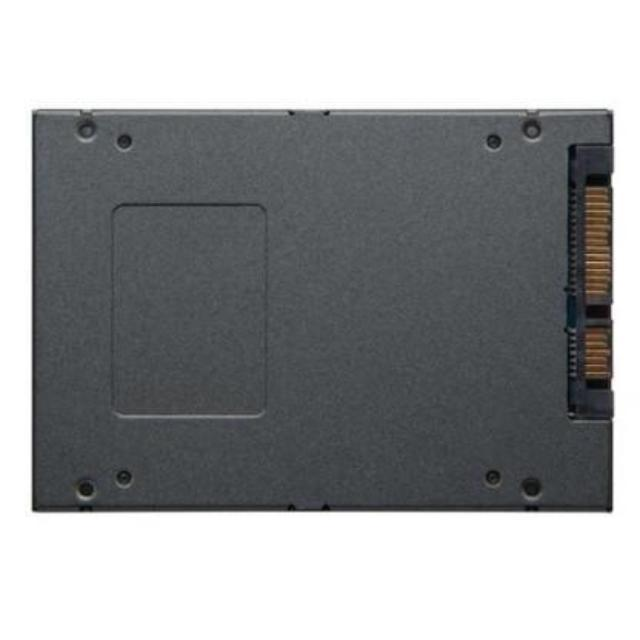DISK: (23, 102, 617, 524)
